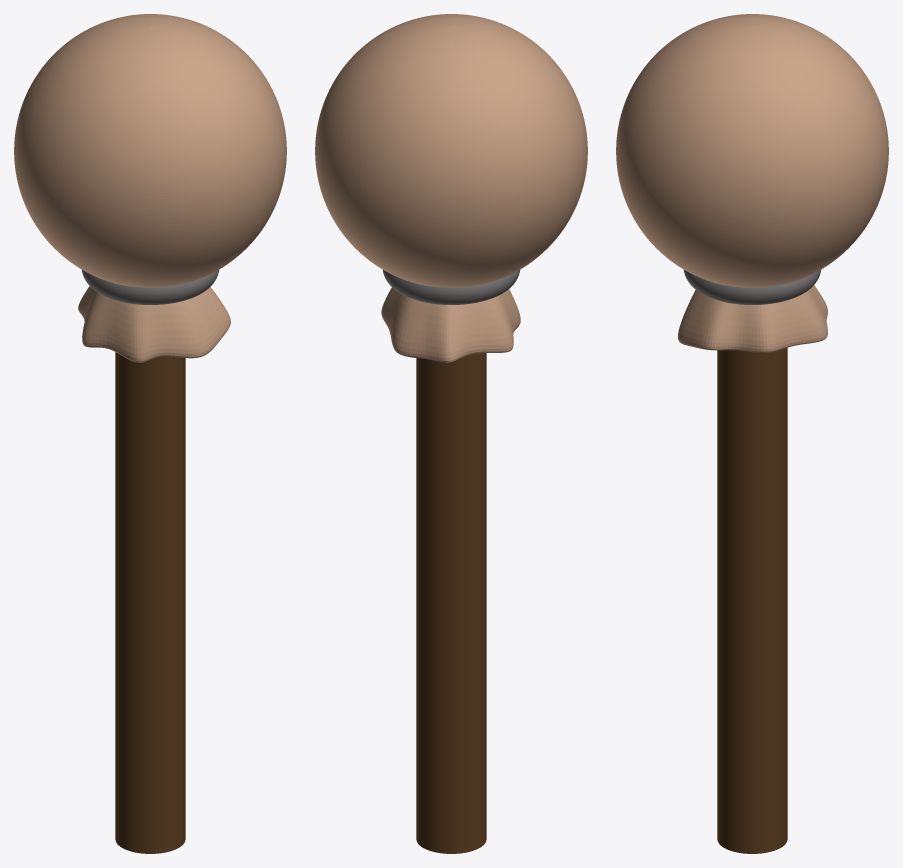
Rendered from stick-huh.fbx.
The picture shows the model from 3 angles, left to right: view 1: azimuth 30°, elevation 25°; view 2: azimuth 150°, elevation 25°; view 3: azimuth 270°, elevation 25°; orthographic projection.
Parts seen in each view (by area): view 1: Sphere, Cylinder, Cylinder.001, Torus; view 2: Sphere, Cylinder, Cylinder.001, Torus; view 3: Sphere, Cylinder, Cylinder.001, Torus.
Part boxes in pixels (x1,y1,x2,y2): Sphere: (14, 14, 286, 287); Cylinder: (115, 352, 185, 853); Cylinder.001: (78, 286, 230, 362); Torus: (81, 270, 219, 304); Sphere: (315, 14, 587, 287); Cylinder: (416, 353, 486, 853); Cylinder.001: (381, 287, 520, 362); Torus: (382, 270, 520, 304); Sphere: (616, 14, 888, 287); Cylinder: (717, 347, 787, 853); Cylinder.001: (678, 285, 827, 352); Torus: (683, 270, 821, 304).
Size of the model in its own units: 15.05 by 49.47 by 15.05.
